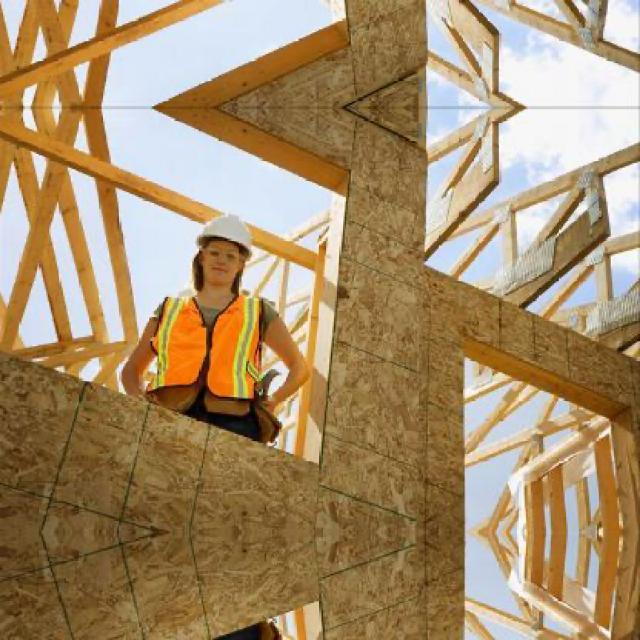helmet: (194, 203, 261, 291)
